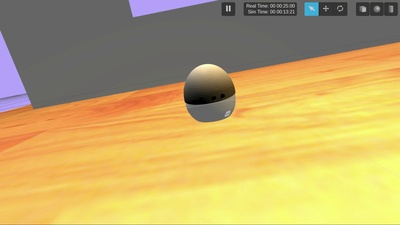mira_robot: (184, 63, 236, 123)
